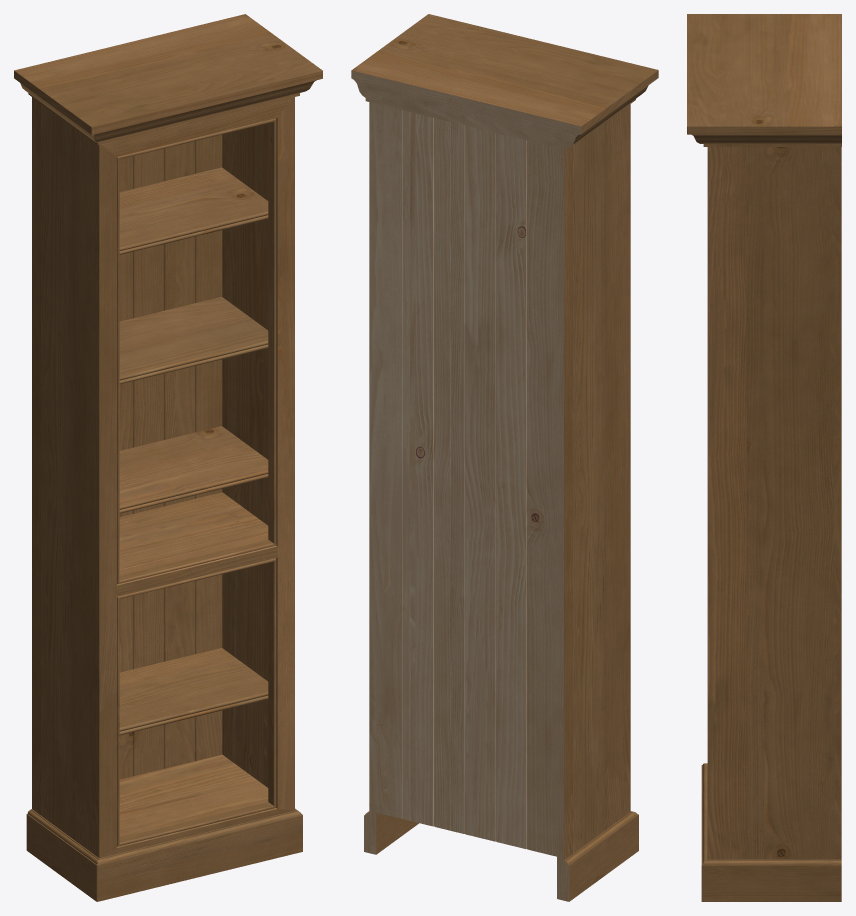
3 renders of one model, left to right at view 1: azimuth 30°, elevation 25°; view 2: azimuth 150°, elevation 25°; view 3: azimuth 270°, elevation 25°, orthographic.
Visible parts, largest first — view 1: obj_651500_3651c3; view 2: obj_651500_3651c3; view 3: obj_651500_3651c3.
Boxes of the visible parts, x1,y1,x2,y2 form: obj_651500_3651c3: [14, 14, 322, 901]; obj_651500_3651c3: [351, 14, 658, 901]; obj_651500_3651c3: [687, 14, 841, 901].
Size of the model in its own units: 0.1083 by 0.35 by 0.0629.
2 materials, 2 textured.
